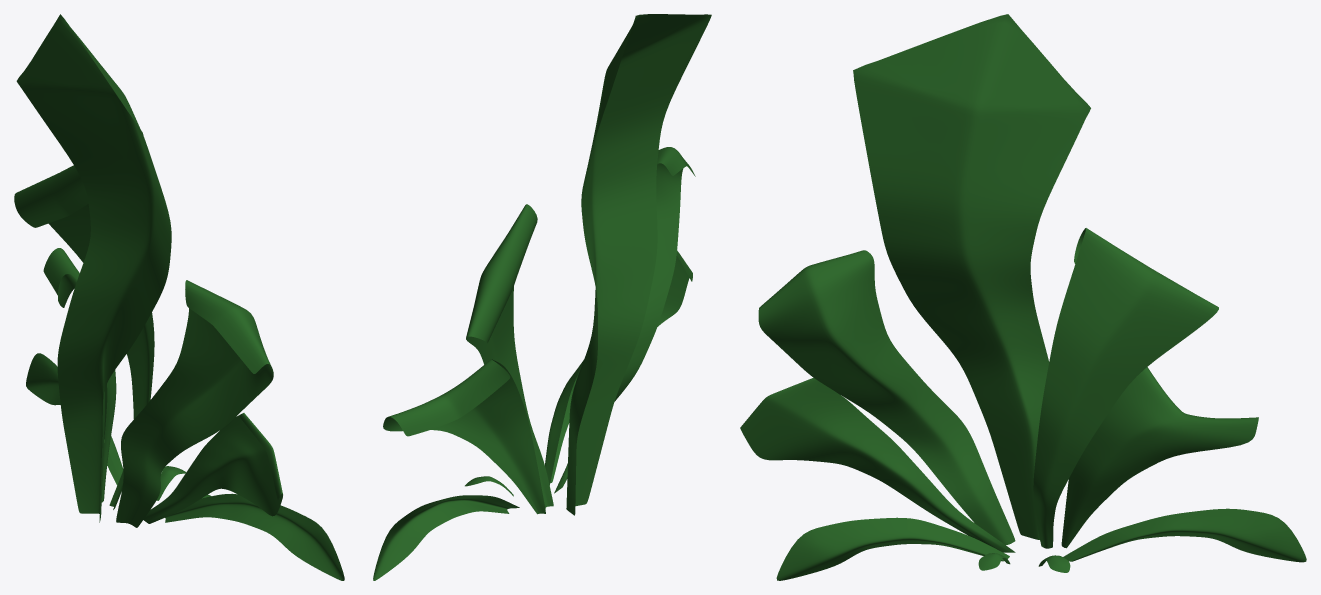
Rendered from SM_fougere.fbx.
The picture shows the model from 3 angles, left to right: view 1: azimuth 30°, elevation 25°; view 2: azimuth 150°, elevation 25°; view 3: azimuth 270°, elevation 25°; orthographic projection. The views are drawn at different scales.
Visible parts, largest first — view 1: Plane.001; view 2: Plane.001; view 3: Plane.001.
Part boxes in pixels (x1,y1,x2,y2): Plane.001: (14, 14, 344, 580); Plane.001: (373, 14, 711, 580); Plane.001: (740, 14, 1306, 580).
Bounding box in the file's own units: 23.68 × 73.3 × 75.25.
